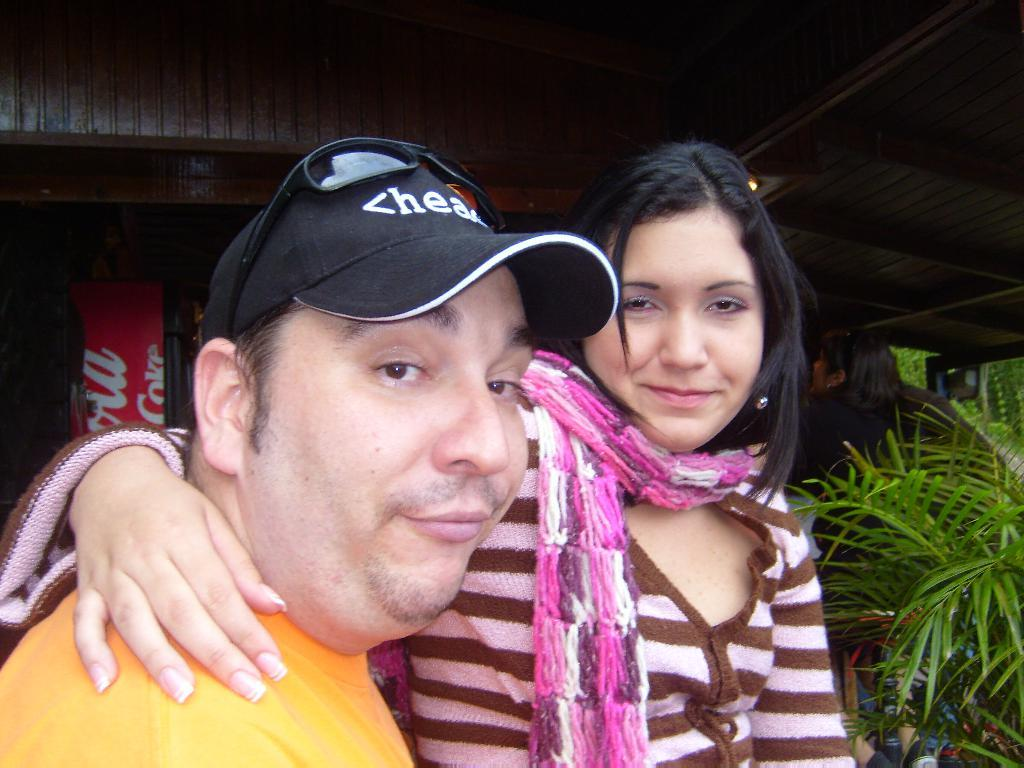Hat: (194, 139, 608, 344)
